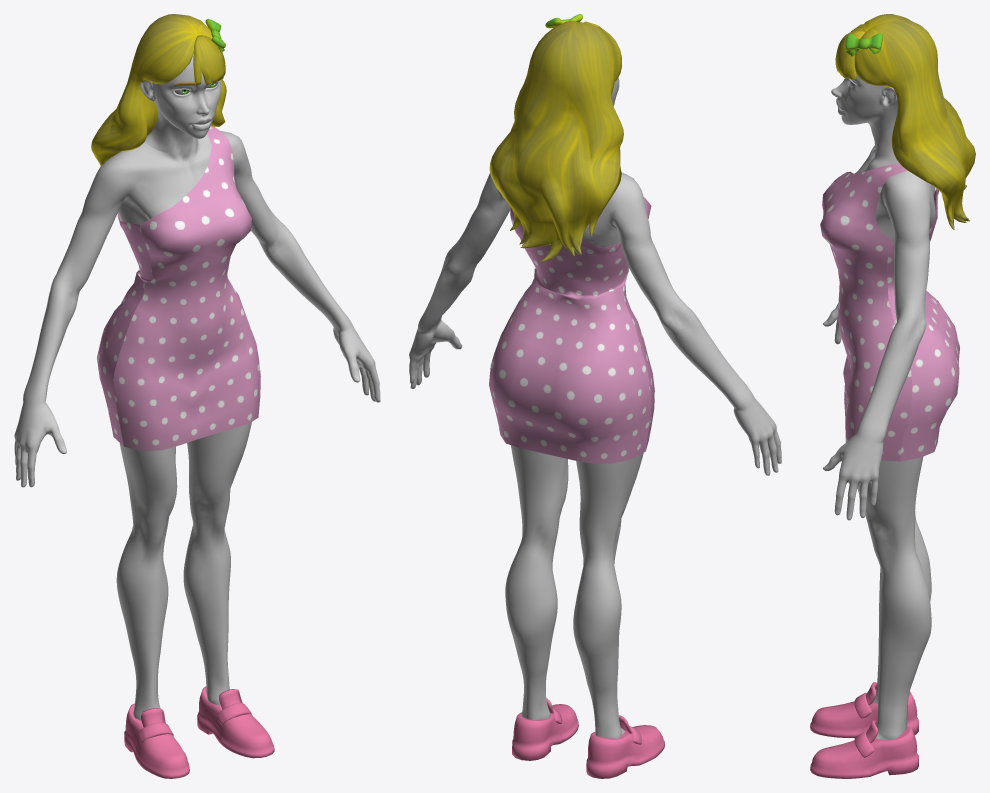
File: Character 3.fbx
3 views of the same model, side by side, from view 1: azimuth 30°, elevation 25°; view 2: azimuth 150°, elevation 25°; view 3: azimuth 270°, elevation 25° (orthographic).
Visible parts, largest first — view 1: Barbie dress, body.002, legs.001, w hair 4, shoes 1.001, legs, head; view 2: Barbie dress, w hair 4, legs.001, body.002, shoes 1.001, legs; view 3: Barbie dress, body.002, w hair 4, legs.001, shoes 1.001, legs, head, hair ribbon.
Part boxes in pixels (bbox=[...]): Barbie dress: bbox=[97, 126, 260, 451]; body.002: bbox=[14, 130, 380, 487]; legs.001: bbox=[116, 422, 251, 631]; w hair 4: bbox=[91, 14, 226, 165]; shoes 1.001: bbox=[124, 686, 274, 778]; legs: bbox=[125, 319, 229, 720]; head: bbox=[140, 53, 220, 154]; Barbie dress: bbox=[489, 197, 654, 463]; w hair 4: bbox=[489, 21, 623, 261]; legs.001: bbox=[505, 445, 643, 660]; body.002: bbox=[409, 172, 781, 475]; shoes 1.001: bbox=[512, 698, 664, 778]; legs: bbox=[513, 637, 625, 738]; Barbie dress: bbox=[820, 163, 959, 461]; body.002: bbox=[823, 145, 934, 520]; w hair 4: bbox=[835, 14, 975, 229]; legs.001: bbox=[857, 457, 931, 651]; shoes 1.001: bbox=[810, 682, 918, 778]; legs: bbox=[873, 611, 924, 739]; head: bbox=[831, 74, 897, 156]; hair ribbon: bbox=[845, 33, 882, 56].
Size of the model in its own units: 96.47 by 187 by 38.64.
